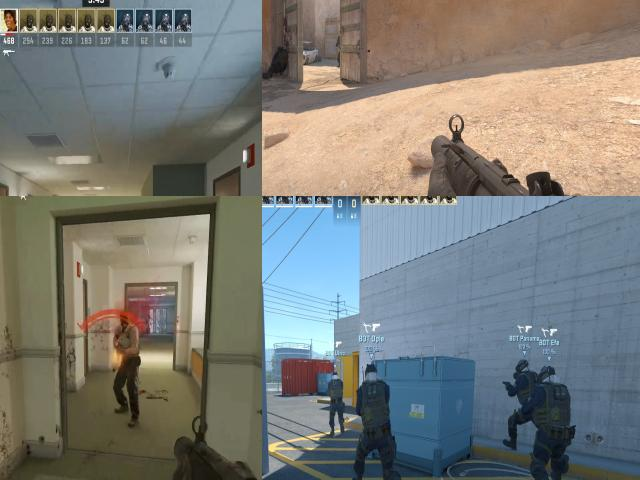CT: (535, 365, 571, 480), (360, 363, 390, 480), (512, 358, 538, 448), (331, 371, 344, 431), (336, 34, 339, 66)
CT-Head: (540, 366, 558, 386), (364, 364, 381, 384), (516, 358, 530, 376), (332, 372, 338, 380), (337, 35, 340, 41)
Dead: (262, 46, 285, 79)
T: (110, 312, 142, 373)
T-Head: (120, 305, 132, 331)
